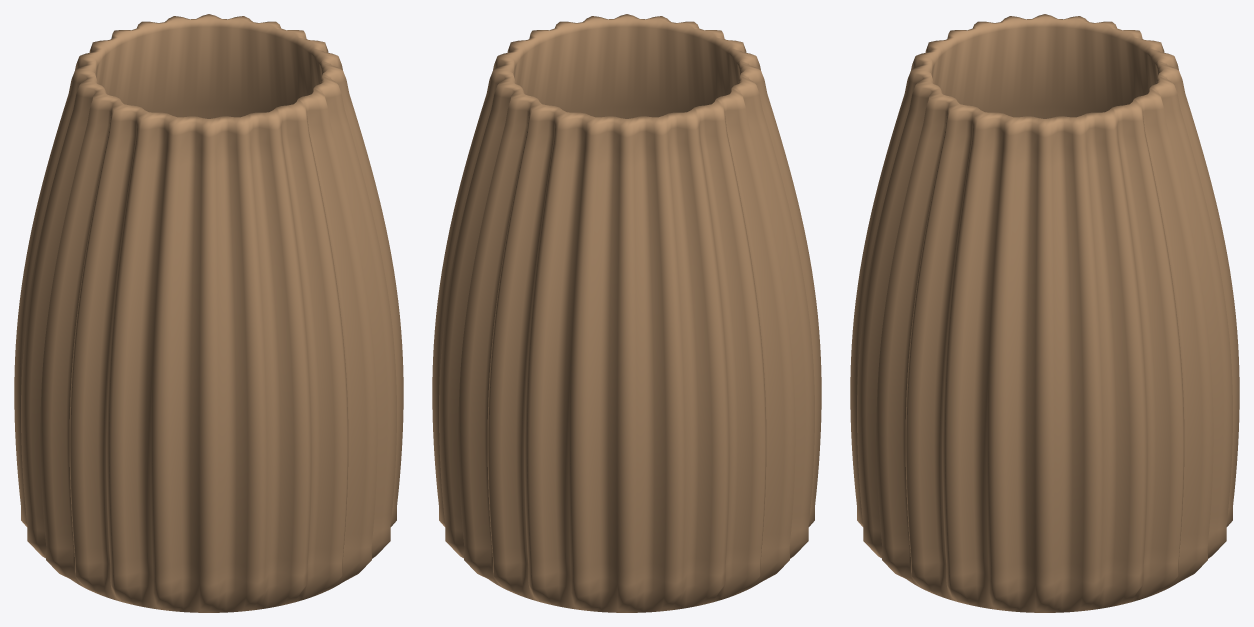
Rendered from ribbed-vase.glb.
3 renders of one model, left to right at view 1: azimuth 30°, elevation 25°; view 2: azimuth 150°, elevation 25°; view 3: azimuth 270°, elevation 25°, orthographic.
Parts seen in each view (by area): view 1: Рельефная ваза; view 2: Рельефная ваза; view 3: Рельефная ваза.
Boxes of the visible parts, bbox=[...] form: Рельефная ваза: bbox=[14, 14, 403, 612]; Рельефная ваза: bbox=[432, 14, 821, 612]; Рельефная ваза: bbox=[850, 14, 1239, 612].
Bounding box in the file's own units: 0.7783 × 1.05 × 0.7783.
